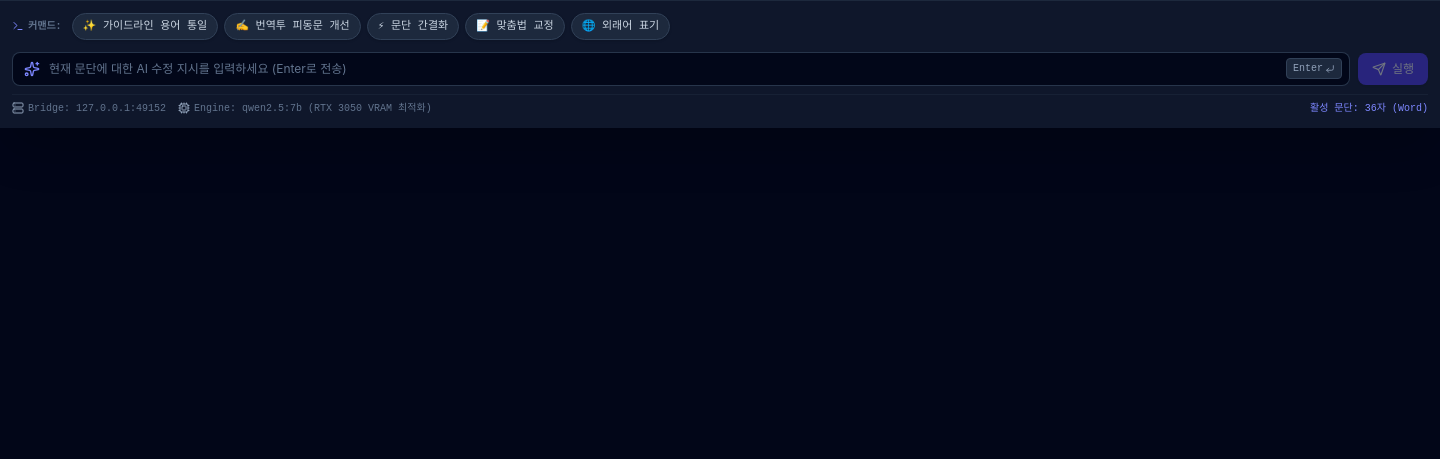
Test: AICommandBar Component › updates input on typing and executes AI command on submission
This screenshot has width=1440, height=459.
Expected: the button with test id "ai-command-submit-btn" is disabled, 1358,52 -> 1428,84
Type "용어를 표준화하고 문장을 간결하게 다듬어줘" into the field with test id "ai-command-input".
click(681, 68); type("용어를 표준화하고 문장을 간결하게 다듬어줘")  # box 12,52 -> 1350,86
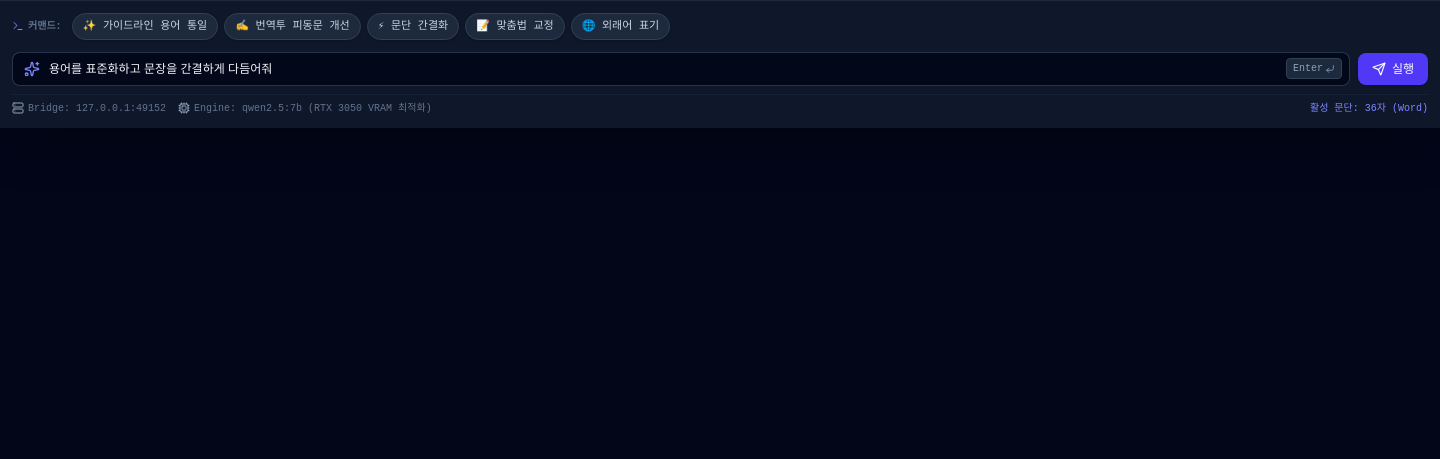
Expected: the button with test id "ai-command-submit-btn" is enabled
Click the button with test id "ai-command-submit-btn".
click(1393, 68)  # box 1358,52 -> 1428,84
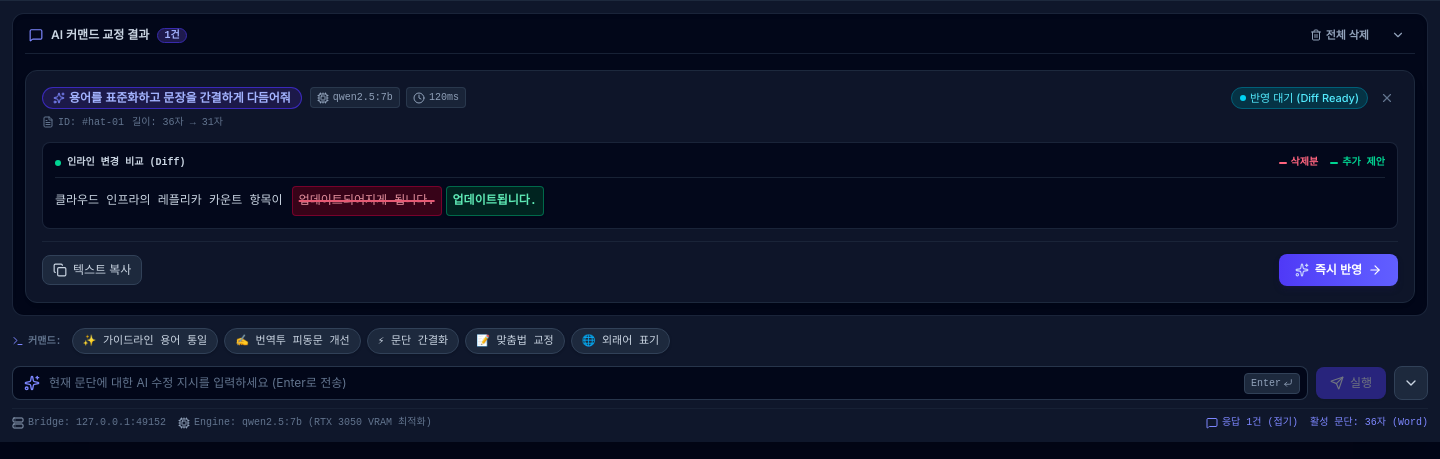
Expected: the element with test id "ai-response-cards-tray" is shown
Expected: the text "AI 커맨드 교정 결과" is shown, 51,27 -> 149,43
Expected: the element with test id "card-prompt-badge" reads "용어를 표준화하고 문장을 간결하게 다듬어줘", 69,90 -> 291,105
